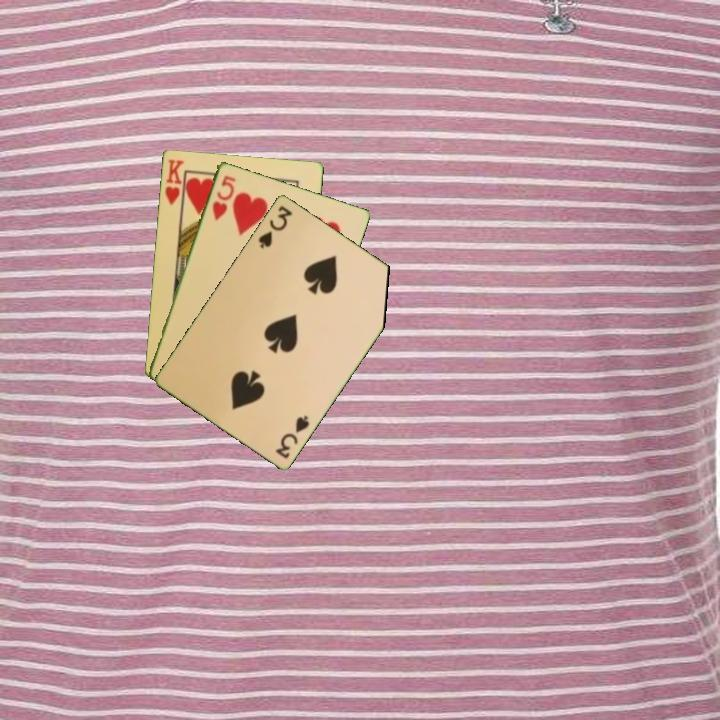3s: (254, 202, 295, 251), (272, 411, 312, 461)
5h: (208, 171, 239, 223)
Kh: (161, 156, 187, 212)
